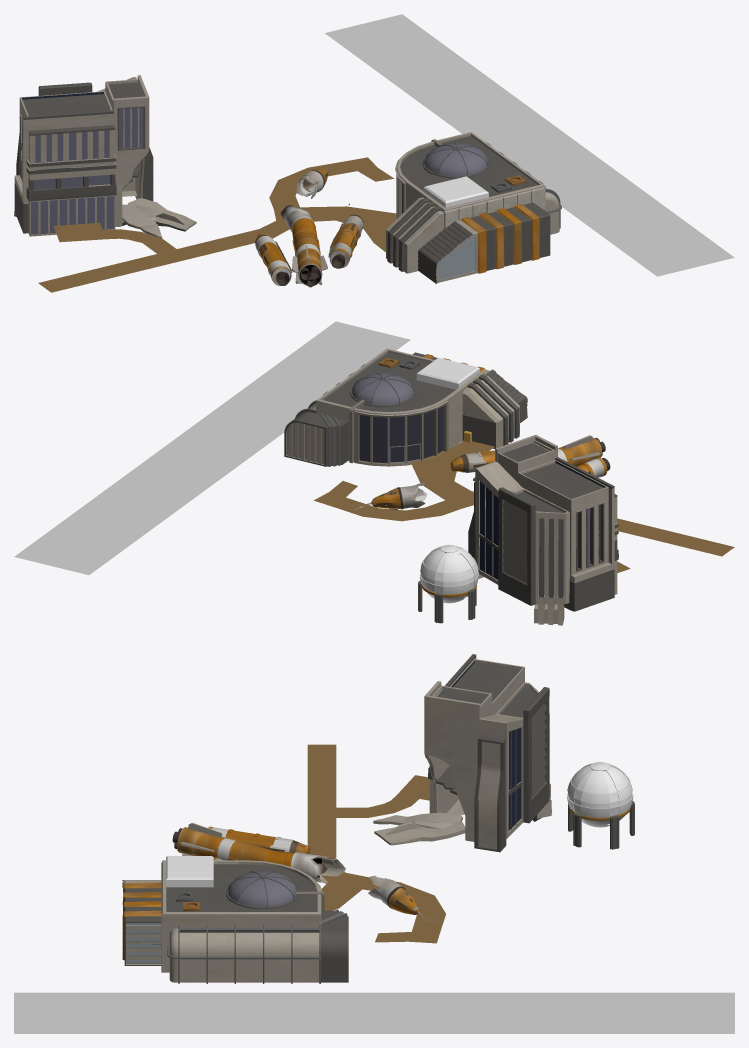
File: texture alles1 1.fbx
3 views of the same model, one above another, from view 1: azimuth 30°, elevation 25°; view 2: azimuth 150°, elevation 25°; view 3: azimuth 270°, elevation 25° (orthographic). The views are drawn at different scales.
Parts seen in each view (by area): view 1: Cube.010, pCube2, Cube.020, pCube10, pCube8, pCube11, pCylinder3, raket_body, pCube9, pCylinder12.001, pCylinder12, pCube5 (+5 smaller); view 2: Cube.010, pCube8, pCube2, pCube3, Cube.020, pCube11, pCube7, pSphere1, pCube4, pCylinder3, pPlane1, pCube9 (+6 smaller); view 3: Cube.010, pCube7, pCube1, Cube.020, pCube8, pCube3, pCube2, pCube10, pSphere1, raket_body, pCylinder3, pCube9 (+6 smaller).
Part boxes in pixels (x1,y1,x2,y2): Cube.010: [325, 14, 734, 276]; pCube2: [14, 79, 149, 236]; Cube.020: [38, 157, 396, 292]; pCube10: [418, 202, 550, 283]; pCube8: [395, 132, 545, 228]; pCube11: [386, 197, 444, 273]; pCylinder3: [422, 142, 490, 178]; raket_body: [280, 205, 322, 285]; pCube9: [423, 176, 488, 207]; pCylinder12.001: [328, 214, 363, 268]; pCylinder12: [255, 233, 292, 285]; pCube5: [122, 198, 196, 231]; Cube.010: [14, 321, 410, 574]; pCube8: [316, 348, 484, 466]; pCube2: [497, 435, 618, 611]; pCube3: [475, 462, 569, 605]; Cube.020: [314, 440, 734, 572]; pCube11: [462, 375, 519, 448]; pCube7: [284, 364, 364, 466]; pSphere1: [420, 544, 478, 603]; pCube4: [534, 518, 564, 625]; pCylinder3: [350, 373, 415, 407]; pPlane1: [502, 500, 527, 583]; pCube9: [416, 357, 479, 389]; Cube.010: [14, 992, 734, 1033]; pCube7: [167, 909, 348, 983]; pCube1: [425, 695, 506, 852]; Cube.020: [307, 744, 454, 943]; pCube8: [161, 860, 324, 972]; pCube3: [480, 682, 549, 838]; pCube2: [424, 654, 524, 815]; pCube10: [122, 880, 161, 965]; pSphere1: [567, 762, 633, 827]; raket_body: [177, 827, 345, 883]; pCylinder3: [226, 871, 299, 909]; pCube9: [166, 856, 213, 887].
Bounding box in the file's own units: 4655 × 1161 × 4893.
